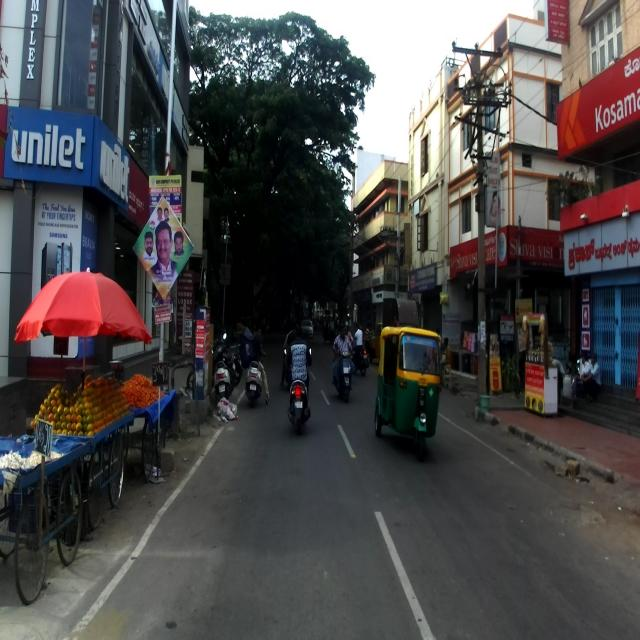autorickshaw: (374, 324, 441, 461)
scooter: (283, 348, 314, 434), (243, 344, 267, 404)
